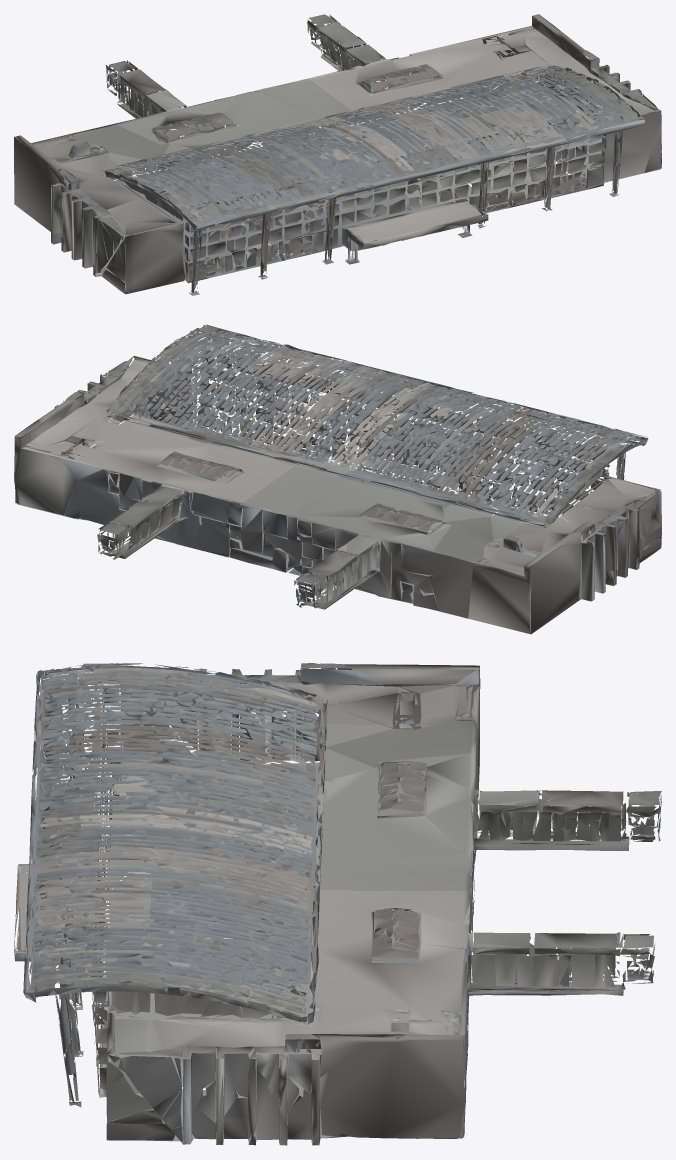
File: terminal.glb
The picture shows the model from 3 angles, top to bottom: view 1: azimuth 30°, elevation 25°; view 2: azimuth 150°, elevation 25°; view 3: azimuth 270°, elevation 25°; orthographic projection. The views are drawn at different scales.
Visible parts, largest first — view 1: LO.001; view 2: LO.001; view 3: LO.001.
Part boxes in pixels (x1,y1,x2,y2): LO.001: [14, 14, 661, 295]; LO.001: [14, 324, 661, 634]; LO.001: [14, 663, 661, 1145].
Bounding box in the file's own units: 1.91 × 0.3071 × 1.34.
Materials: 1 (1 with a texture image).
